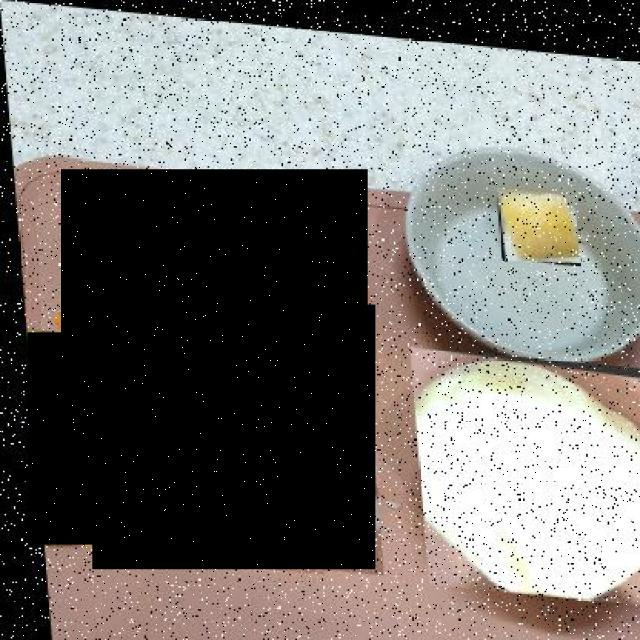Carrot: (60, 170, 368, 345)
Chili_Pepper: (28, 332, 97, 545)
Crab_Meat: (93, 305, 376, 570)
